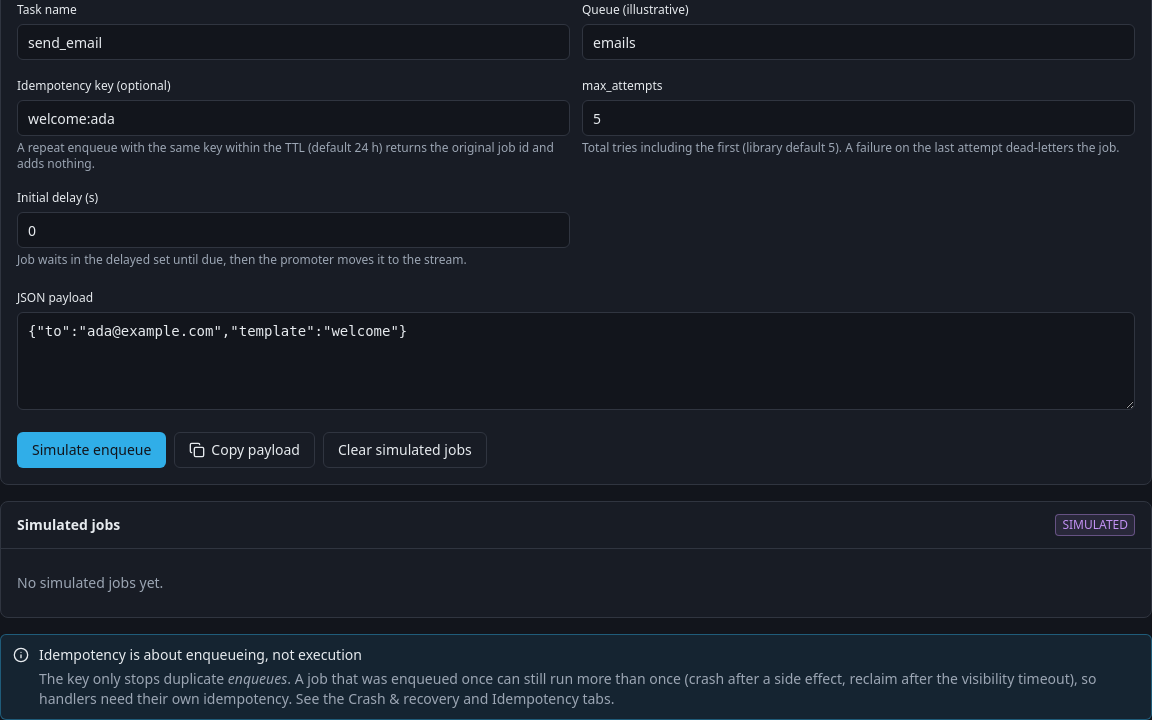
Playground (Simulation Mode) › enqueues a labelled demo job, then suppresses a duplicate key
(page scrolled)
Click the button "Simulate enqueue": x=92, y=450 [17,432,166,468]
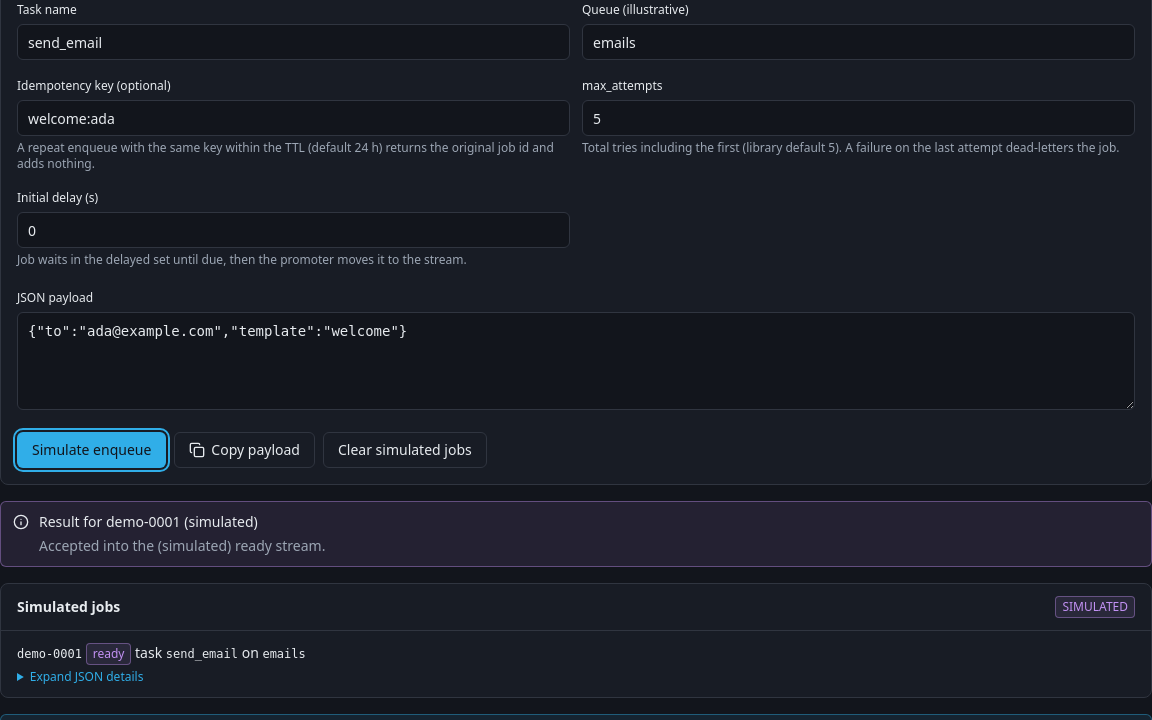
Check: the text "Result for demo-0001 (simulated)" is shown, box [39,512,258,531]
Click the button "Simulate enqueue": x=92, y=450 [17,432,166,468]
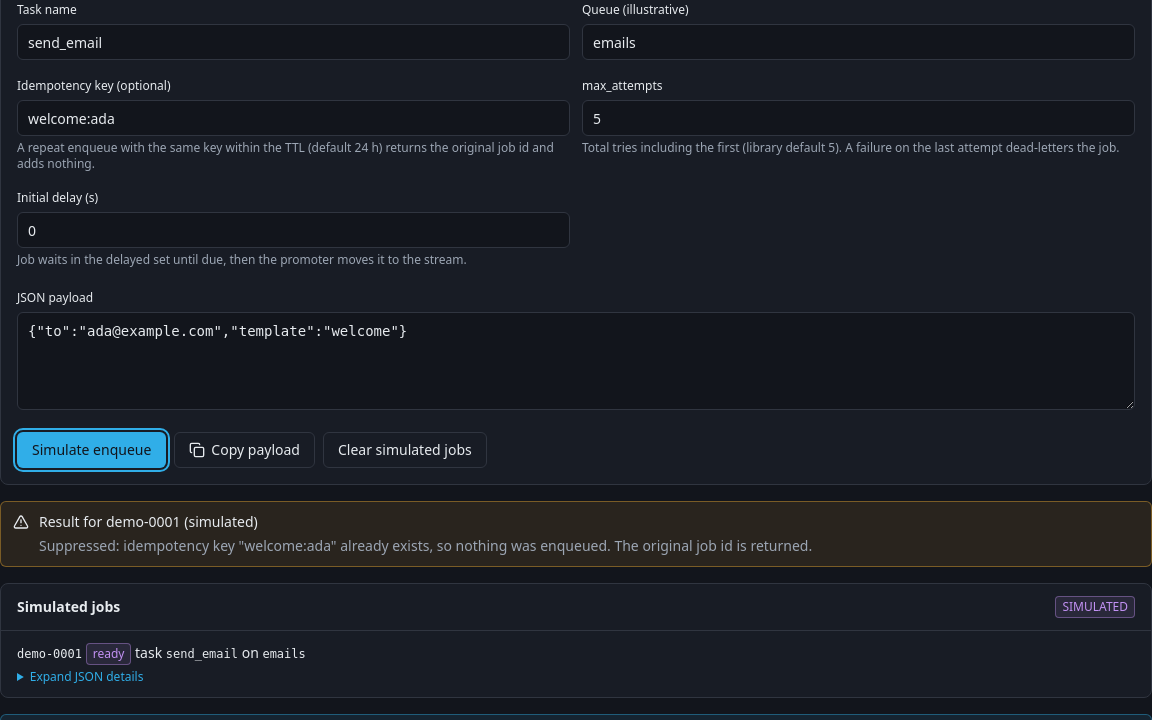
Check: the text "Suppressed: idempotency key \"welcome:ada\" already exists" is shown, box [39,536,812,555]
Click the button "Clear simulated jobs": x=405, y=450 [323,432,487,468]
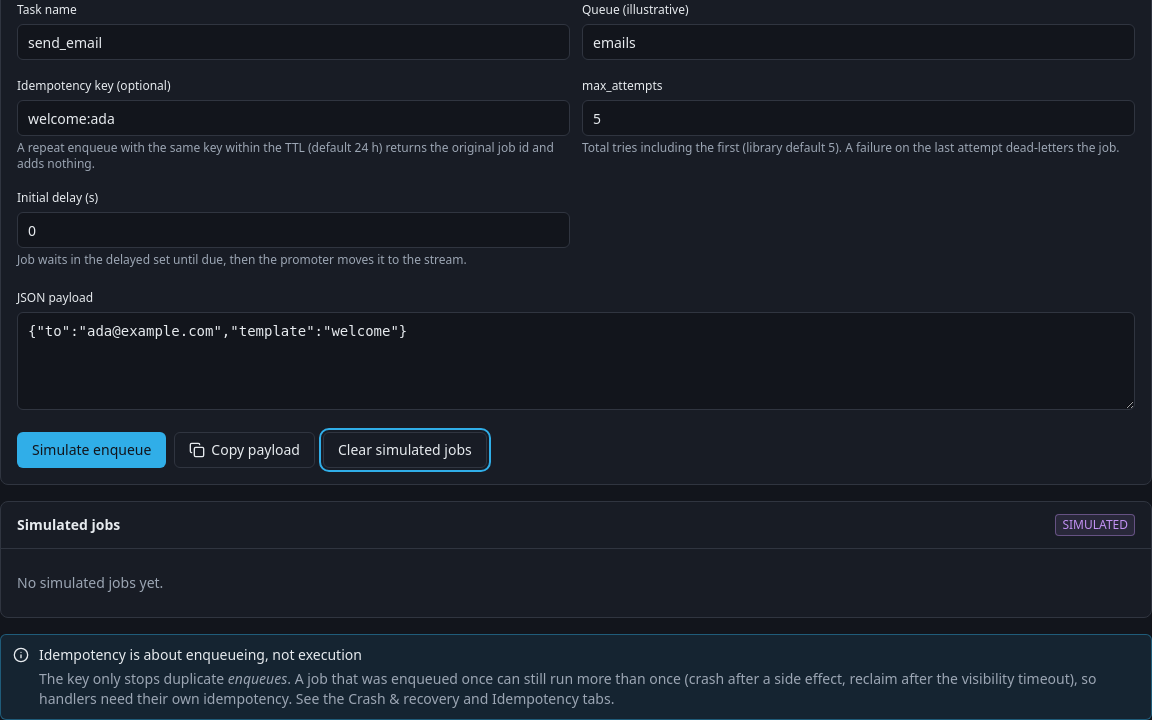
Check: the text "No simulated jobs yet." is shown, box [17,573,163,592]
